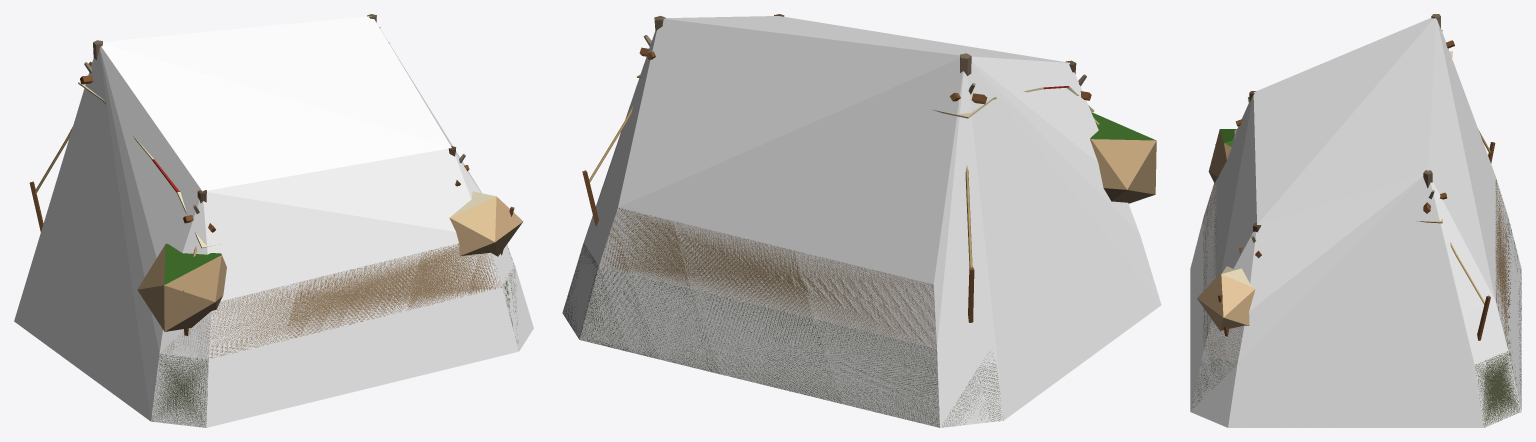
File: smuggler_contraband_hoard.glb
3 views of the same model, side by side, from view 1: azimuth 30°, elevation 25°; view 2: azimuth 150°, elevation 25°; view 3: azimuth 270°, elevation 25° (orthographic). The views are drawn at different scales.
Visible parts, largest first — view 1: col_hoard_stack, SmugglerContrabandHoard; view 2: col_hoard_stack, SmugglerContrabandHoard; view 3: col_hoard_stack, SmugglerContrabandHoard.
Boxes of the visible parts, x1,y1,x2,y2 form: col_hoard_stack: (14, 16, 533, 427); SmugglerContrabandHoard: (29, 14, 523, 427); col_hoard_stack: (562, 16, 1161, 427); SmugglerContrabandHoard: (563, 14, 1156, 427); col_hoard_stack: (1190, 18, 1521, 427); SmugglerContrabandHoard: (1191, 14, 1521, 427).
Size of the model in its own units: 7.1 by 5.03 by 5.7.
